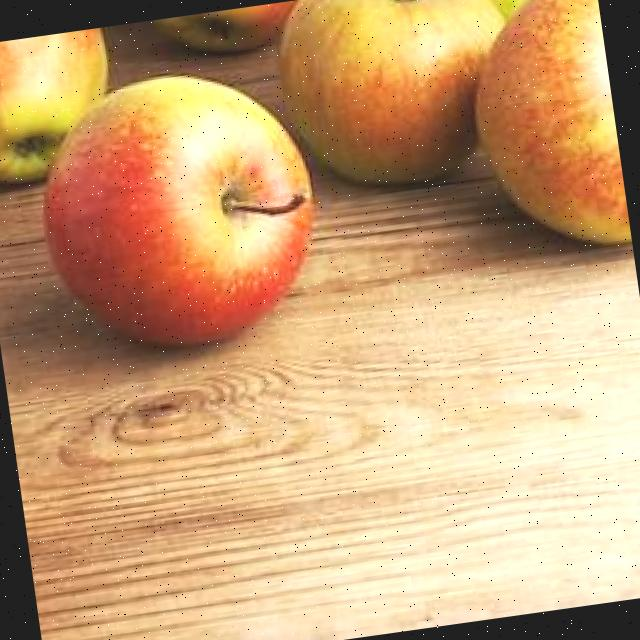apple: (25, 57, 334, 362)
